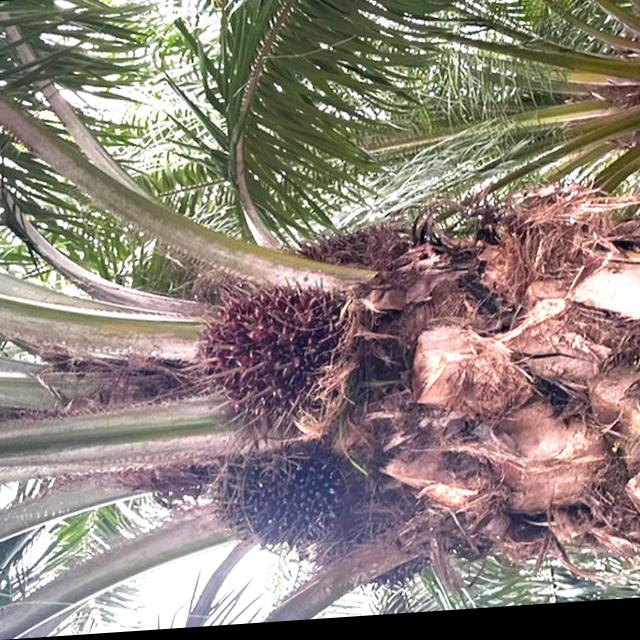ripe: (171, 268, 354, 432)
